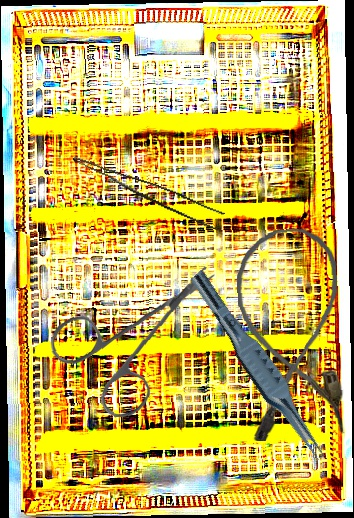Cannula: (233, 226, 348, 442)
Iris Scissors: (45, 256, 217, 423)
Tissue Forceps: (179, 269, 337, 465), (66, 156, 227, 231)
